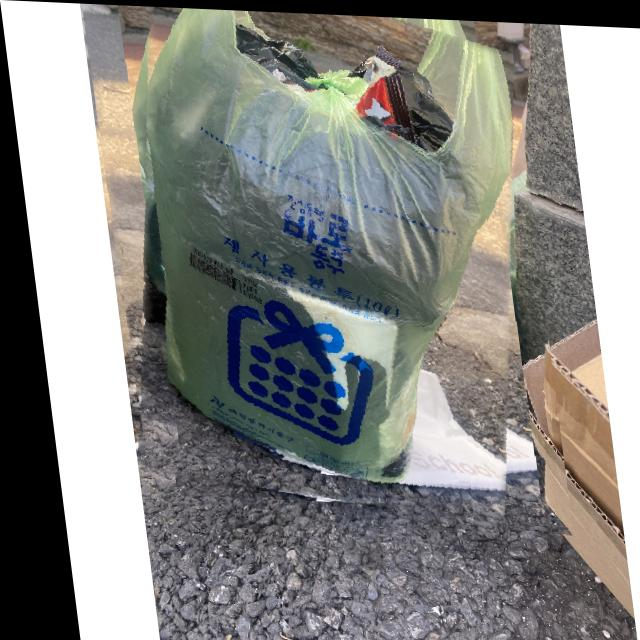general_trashbag: (127, 5, 511, 522)
